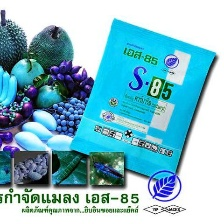insecticide: (64, 11, 221, 190)
